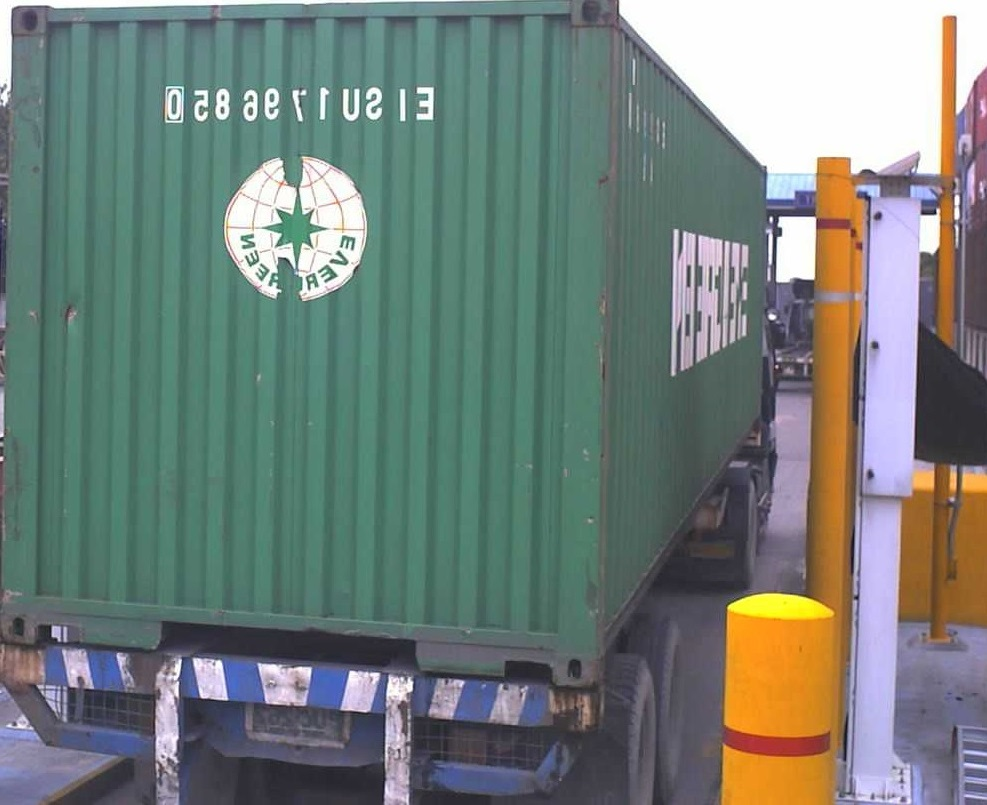container_no_door: (23, 1, 613, 639)
